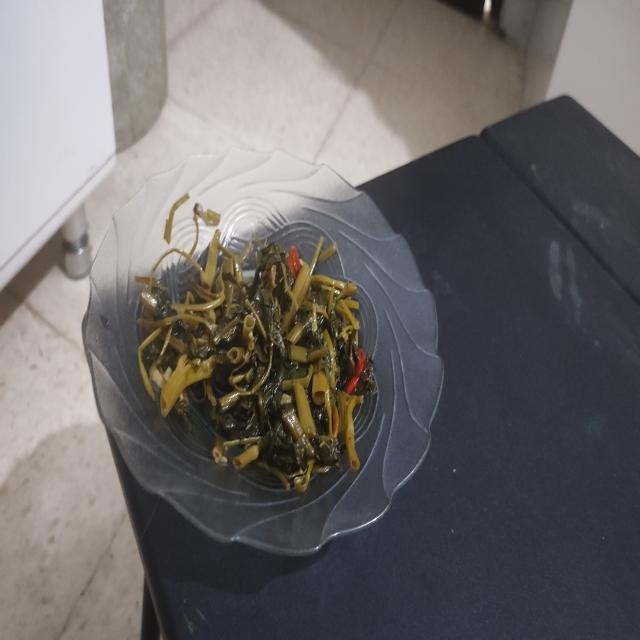tumis_kangkung: (136, 229, 376, 491)
